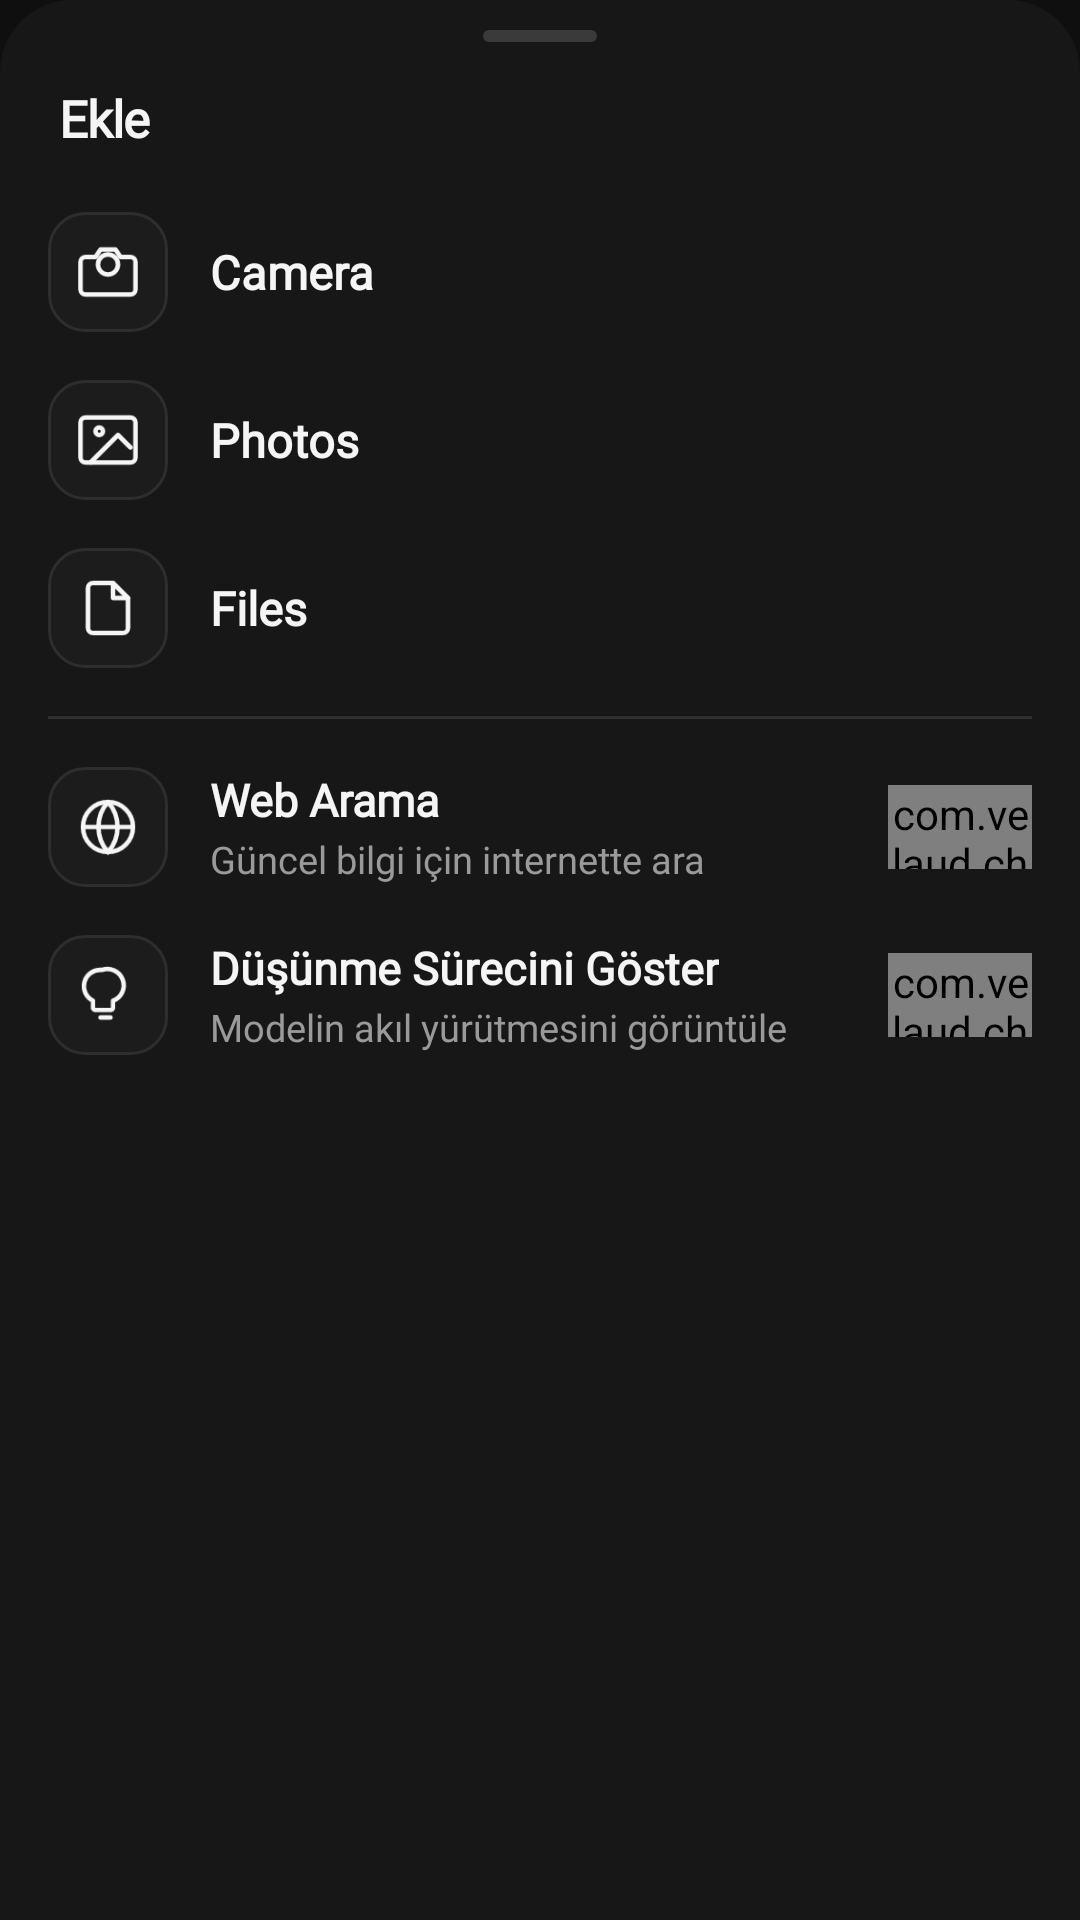

Named icons in this screenshot (1080*1920) and their bounding boxes, {"left": x1, "top": y1, "right": x2, "bottom": y2}:
thinking: {"left": 81, "top": 966, "right": 127, "bottom": 1021}
